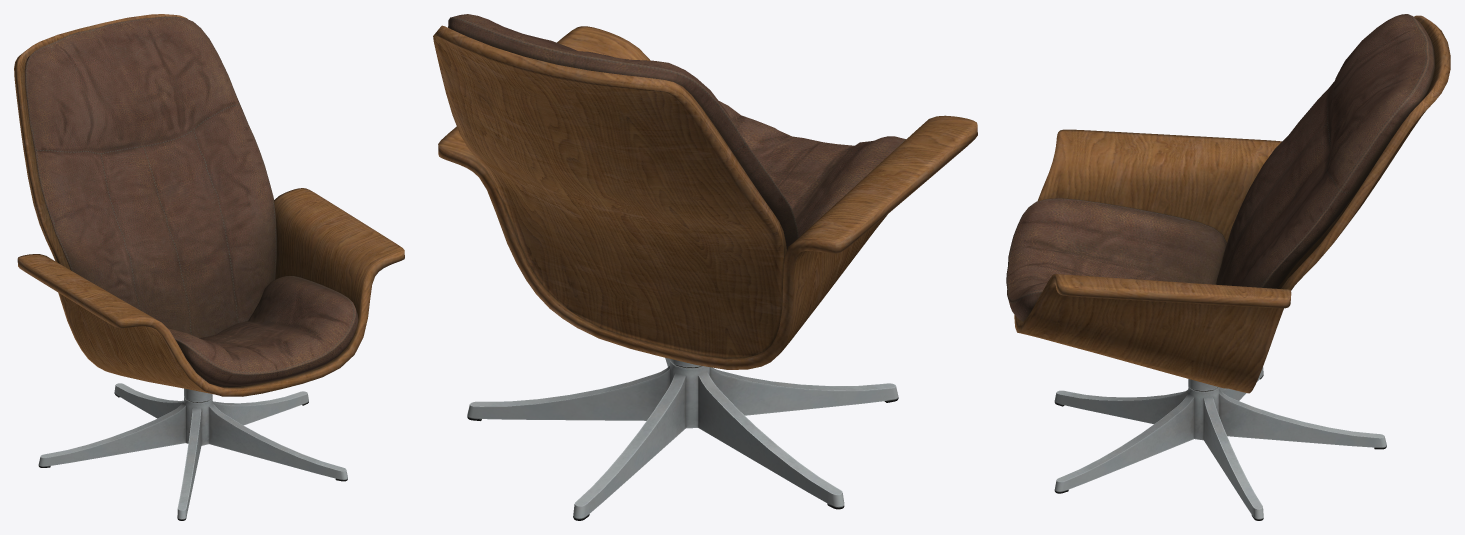
The model's file is mid_century_lounge_chair.glb.
3 views of the same model, side by side, from view 1: azimuth 30°, elevation 25°; view 2: azimuth 150°, elevation 25°; view 3: azimuth 270°, elevation 25° (orthographic). The views are drawn at different scales.
Visible parts, largest first — view 1: mid_century_lounge_chair; view 2: mid_century_lounge_chair; view 3: mid_century_lounge_chair.
Part boxes in pixels (x1,y1,x2,y2): mid_century_lounge_chair: (14, 14, 404, 520); mid_century_lounge_chair: (433, 14, 977, 520); mid_century_lounge_chair: (1006, 14, 1450, 520).
Size of the model in its own units: 0.8627 by 1 by 1.02.
1 material, 1 textured.
